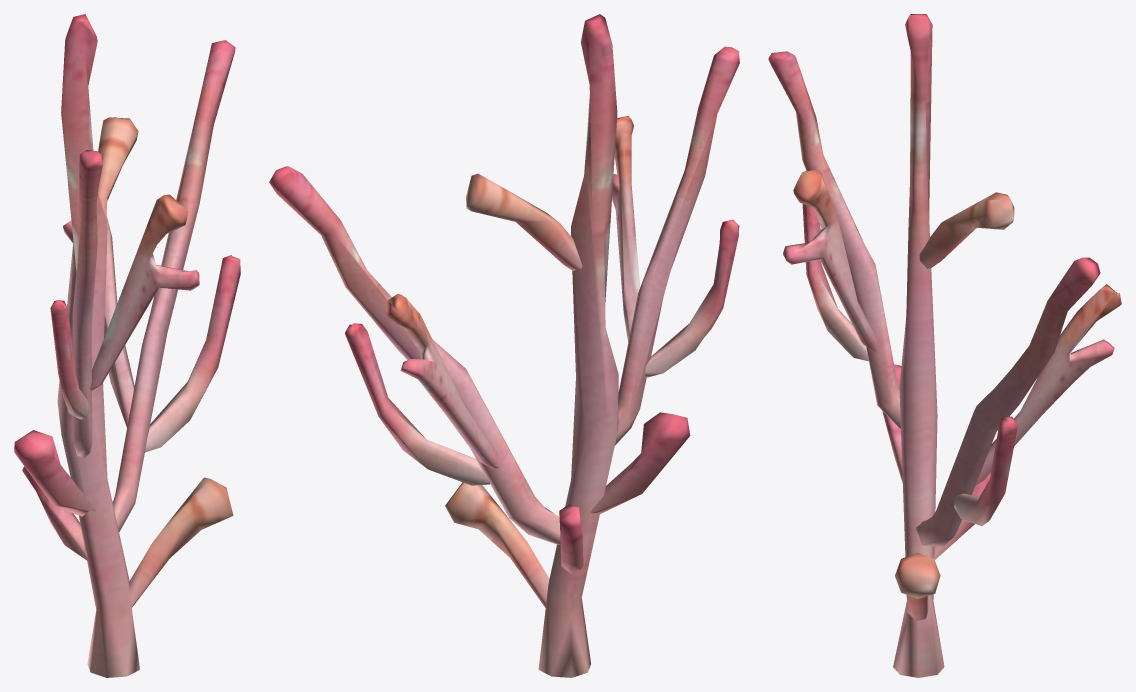
Rendered from coral.glb.
The picture shows the model from 3 angles, left to right: view 1: azimuth 30°, elevation 25°; view 2: azimuth 150°, elevation 25°; view 3: azimuth 270°, elevation 25°; orthographic projection. The views are drawn at different scales.
Visible parts, largest first — view 1: coral; view 2: coral; view 3: coral.
Part boxes in pixels (left/top/right/bottom): coral: left=14, top=14, right=240, bottom=677; coral: left=269, top=14, right=739, bottom=677; coral: left=768, top=14, right=1121, bottom=677.
Bounding box in the file's own units: 0.7157 × 1.38 × 0.6943.
1 material, 1 textured.
